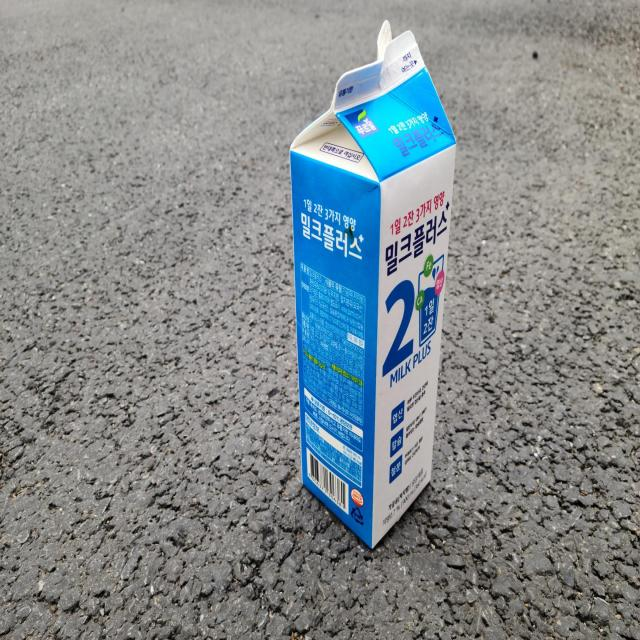paperpack: (290, 20, 456, 548)
